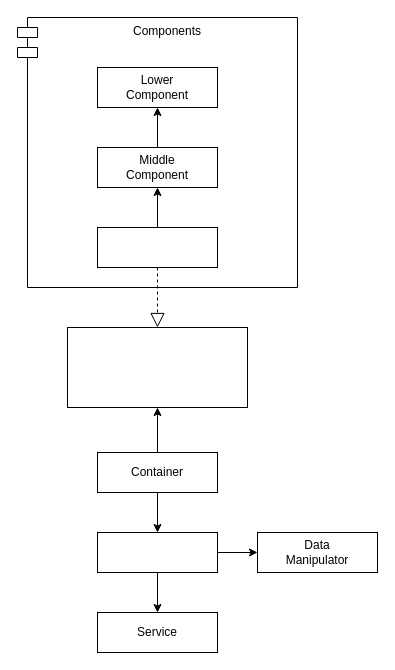
The diagram is 395 pixels wide and 670 high, and some of its shapes have lost their labels. The centre of each missing label's shape, as x and y in pixels:
"<<interface>> ListComponent + setItems(items: ShareItems[])" goes at (x=157, y=367).
"Higher Component" goes at (x=157, y=247).
"Interactor" goes at (x=157, y=552).
